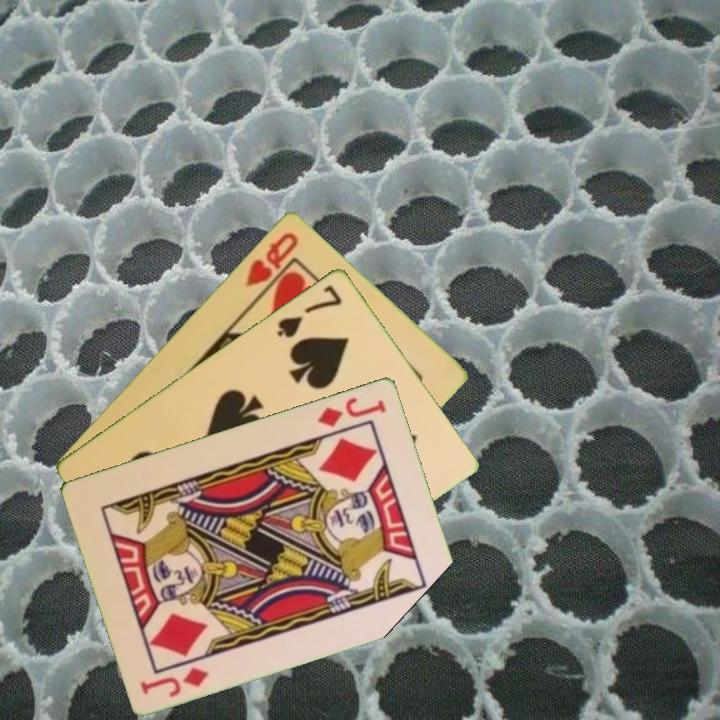7s: (273, 280, 345, 341)
Jd: (314, 393, 389, 430), (137, 662, 212, 699)
Qh: (242, 228, 301, 289)
